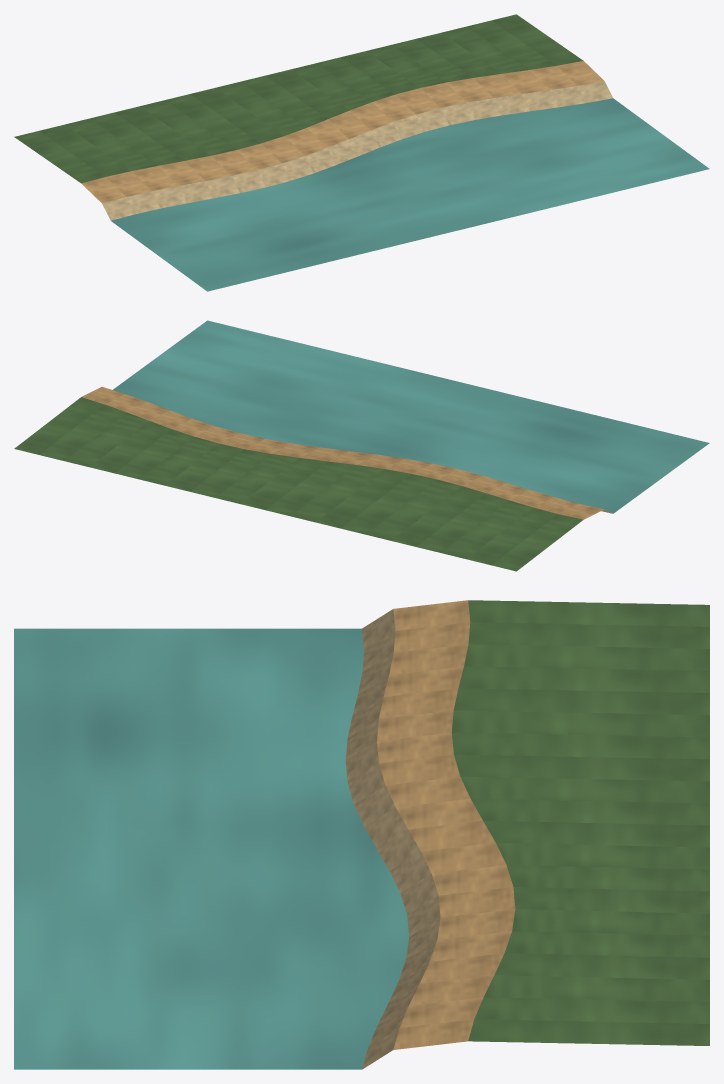
The model's file is lake_edge_set_04.fbx.
The picture shows the model from 3 angles, top to bottom: view 1: azimuth 30°, elevation 25°; view 2: azimuth 150°, elevation 25°; view 3: azimuth 270°, elevation 25°; orthographic projection. The views are drawn at different scales.
Visible parts, largest first — view 1: lake_edge_set_04; view 2: lake_edge_set_04; view 3: lake_edge_set_04.
Part boxes in pixels (box(x1,y1,x2,y2)): lake_edge_set_04: box(14, 14, 709, 291); lake_edge_set_04: box(14, 320, 709, 571); lake_edge_set_04: box(14, 600, 709, 1069).
Size of the model in its own units: 1200 by 36 by 800.
2 materials, 2 textured.
